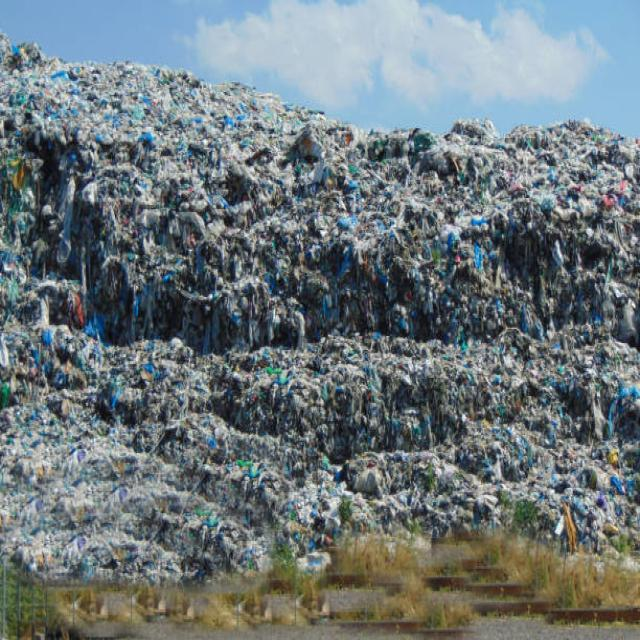plastic: (64, 103, 531, 517)
